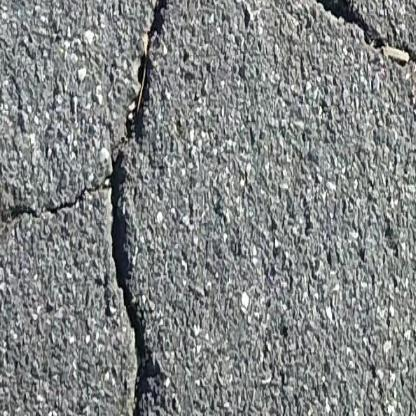Cracks: (0, 0, 170, 416), (297, 0, 387, 51)
